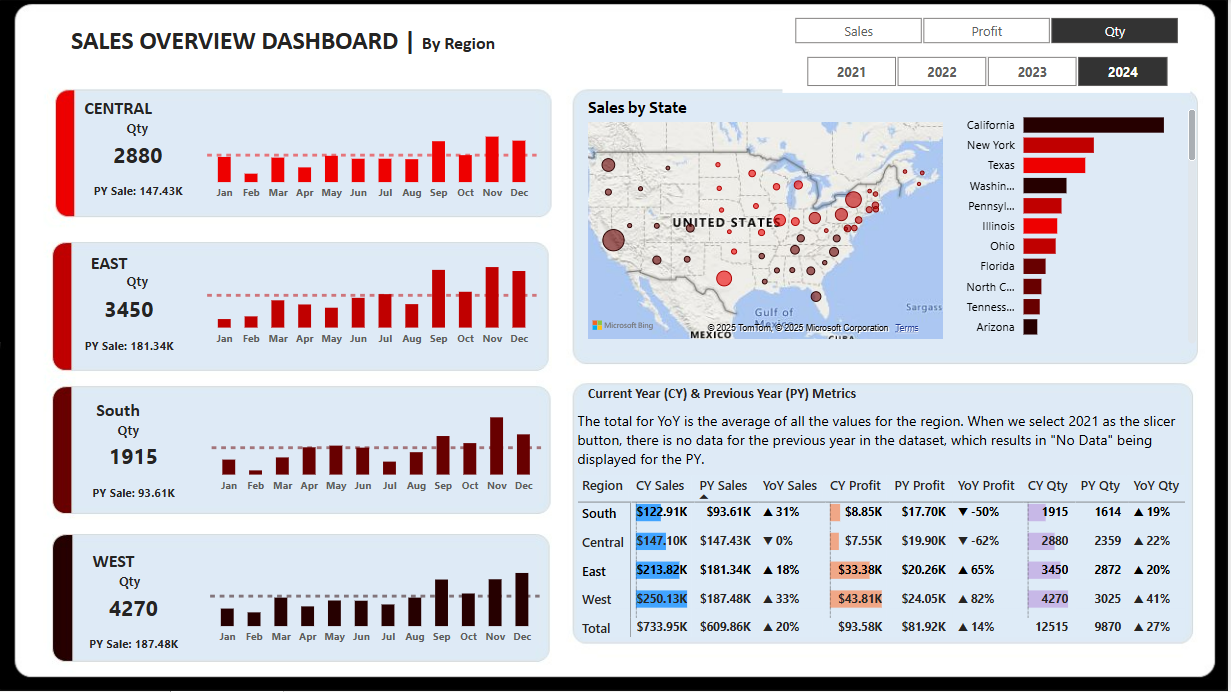

What the dashboard file says about the page in this screenshot:
{"tool":"powerbi","page":{"name":"Page 1","canvas":[1280,720],"ordinal":0},"visuals":[{"type":"slicer","fields":{"Values":["Select Metric.Select Metric"]},"box":[804.3,12.5,448.2,40.6],"z":0},{"type":"card","fields":{"Values":["Sales Data.Total Sales"]},"box":[68.7,140.6,156.2,45.3],"z":1000},{"type":"textbox","box":[79.7,96.8,90.6,43.7],"z":2000},{"type":"slicer","fields":{"Values":["Calendar Table.Year"]},"box":[817,52.5,424.4,44.5],"z":3000},{"type":"card","fields":{"Values":["Sales Data.Dynamic Title"]},"box":[79.7,118.7,132.8,35.9],"z":4000},{"type":"card","fields":{"Values":["Sales Data.PY KPI Sales"]},"box":[79.7,185.9,132.8,32.8],"z":5000},{"type":"clusteredColumnChart","fields":{"Y":["Sales Data.Total Sales"],"Category":["Calendar Table.Month"]},"box":[212.4,106.2,354.5,112.5],"z":6000},{"type":"textbox","box":[32.8,21.9,534.1,48.4],"z":7000},{"type":"card","fields":{"Values":["Sales Data.Total Sales"]},"box":[60,301.5,156.2,45.3],"z":8000},{"type":"textbox","box":[70.9,257.8,90.6,43.7],"z":9000},{"type":"card","fields":{"Values":["Sales Data.PY KPI Sales"]},"box":[70.9,346.8,132.8,32.8],"z":10000},{"type":"clusteredColumnChart","fields":{"Y":["Sales Data.Total Sales"],"Category":["Calendar Table.Month"]},"box":[212.4,257.7,354.5,112.5],"z":11000},{"type":"card","fields":{"Values":["Sales Data.Total Sales"]},"box":[64.8,455.2,156.2,45.3],"z":12000},{"type":"textbox","box":[79.7,410.8,90.6,43.7],"z":13000},{"type":"card","fields":{"Values":["Sales Data.PY KPI Sales"]},"box":[75.7,500.5,132.8,32.8],"z":14000},{"type":"clusteredColumnChart","fields":{"Y":["Sales Data.Total Sales"],"Category":["Calendar Table.Month"]},"box":[217.2,411.4,354.5,112.5],"z":15000},{"type":"card","fields":{"Values":["Sales Data.Total Sales"]},"box":[63.7,612.5,156.2,45.3],"z":16000},{"type":"textbox","box":[74.7,568.7,90.6,43.7],"z":17000},{"type":"card","fields":{"Values":["Sales Data.PY KPI Sales"]},"box":[74.7,657.7,132.8,32.8],"z":18000},{"type":"clusteredColumnChart","fields":{"Y":["Sales Data.Total Sales"],"Category":["Calendar Table.Month"]},"box":[216.2,568.6,354.5,112.5],"z":19000},{"type":"card","fields":{"Values":["Sales Data.Dynamic Title"]},"box":[79.7,278,132.8,35.9],"z":20000},{"type":"card","fields":{"Values":["Sales Data.Dynamic Title"]},"box":[70.3,432.6,132.8,35.9],"z":21000},{"type":"card","fields":{"Values":["Sales Data.Dynamic Title"]},"box":[71.8,589.6,132.3,35.9],"z":22000},{"type":"map","title":"Sales by State","fields":{"Size":["Sales Data.Total Sales"],"Category":["Sales Data.State/Province"],"Series":["Sales Data.Region"]},"box":[609.1,101.5,379.5,257.7],"z":23000},{"type":"barChart","fields":{"Y":["Sales Data.Total Sales"],"Category":["Sales Data.State/Province"],"Series":["Sales Data.Region"]},"box":[988.6,101.5,263.9,262.4],"z":24000},{"type":"pivotTable","fields":{"Rows":["Sales Data.Region"],"Values":["Sales Data.CY Sales","Sales Data.PY Sales","Sales Data.YoY Sales","Sales Data.CY Profit","Sales Data.PY Profit","Sales Data.YoY Profit","Sales Data.CY Qty","Sales Data.PY Qty","Sales Data.YoY Qty"]},"box":[598.2,490.4,643.5,190.5],"z":25000},{"type":"textbox","box":[609.1,395.1,299.9,37.5],"z":25001},{"type":"textbox","box":[598.2,423.3,654.4,76.5],"z":25002}]}

Visuals, with their boxes in screenshot pixels (x1, y1, x2, y2), scaled from the page's 1280x720 canvas onto the 1231x692 screenshot:
slicer - Select Metric.Select Metric: 774, 12, 1205, 51
card - Sales Data.Total Sales: 66, 135, 216, 179
textbox: 77, 93, 164, 135
slicer - Calendar Table.Year: 786, 50, 1194, 93
card - Sales Data.Dynamic Title: 77, 114, 204, 149
card - Sales Data.PY KPI Sales: 77, 179, 204, 210
clusteredColumnChart - Sales Data.Total Sales x Calendar Table.Month: 204, 102, 545, 210
textbox: 32, 21, 545, 68
card - Sales Data.Total Sales: 58, 290, 208, 333
textbox: 68, 248, 155, 290
card - Sales Data.PY KPI Sales: 68, 333, 196, 365
clusteredColumnChart - Sales Data.Total Sales x Calendar Table.Month: 204, 248, 545, 356
card - Sales Data.Total Sales: 62, 437, 213, 481
textbox: 77, 395, 164, 437
card - Sales Data.PY KPI Sales: 73, 481, 201, 513
clusteredColumnChart - Sales Data.Total Sales x Calendar Table.Month: 209, 395, 550, 504
card - Sales Data.Total Sales: 61, 589, 211, 632
textbox: 72, 547, 159, 589
card - Sales Data.PY KPI Sales: 72, 632, 200, 664
clusteredColumnChart - Sales Data.Total Sales x Calendar Table.Month: 208, 546, 549, 655
card - Sales Data.Dynamic Title: 77, 267, 204, 302
card - Sales Data.Dynamic Title: 68, 416, 195, 450
card - Sales Data.Dynamic Title: 69, 567, 196, 601
"Sales by State" map: 586, 98, 951, 345
barChart - Sales Data.Total Sales x Sales Data.State/Province: 951, 98, 1205, 350
pivotTable - Sales Data.Region x Sales Data.CY Sales: 575, 471, 1194, 654
textbox: 586, 380, 874, 416
textbox: 575, 407, 1205, 480
